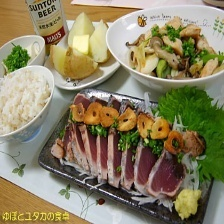rice: (0, 65, 54, 140)
